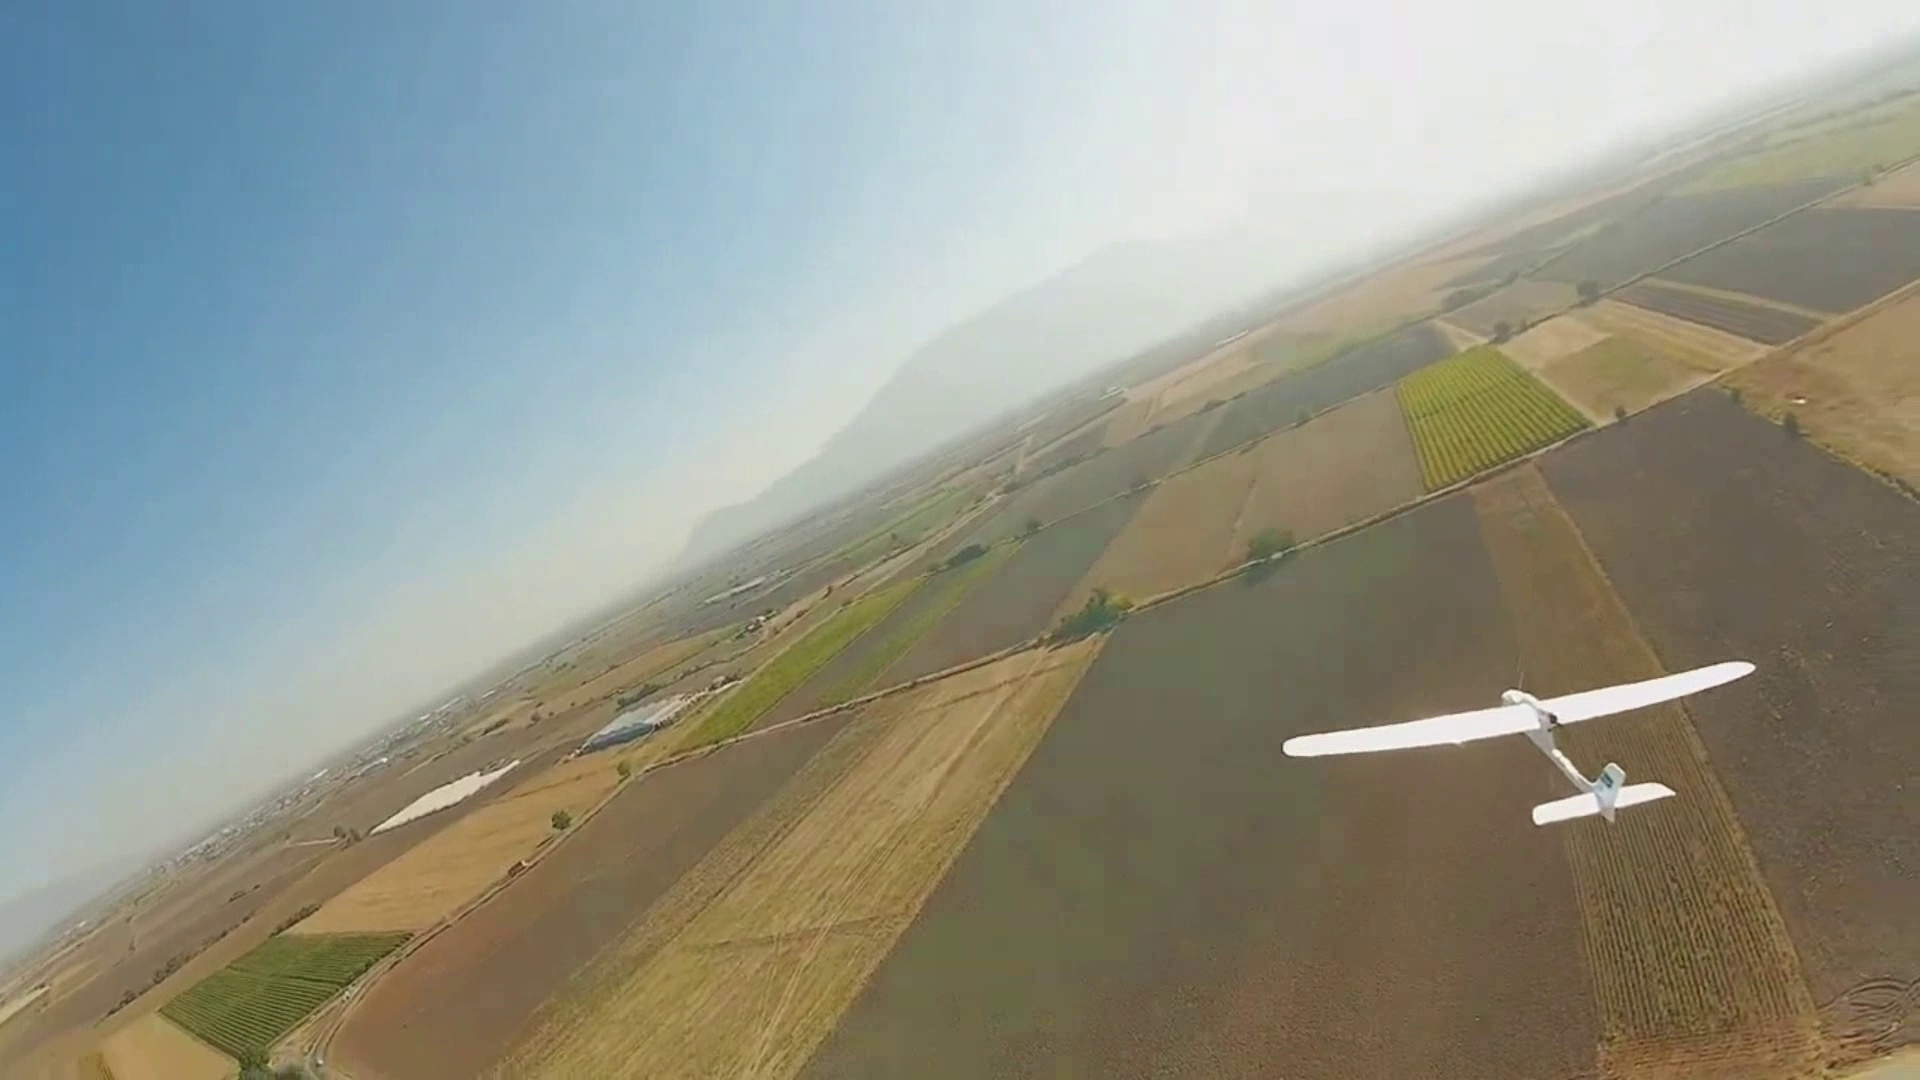airplane: (1283, 669, 1754, 831)
